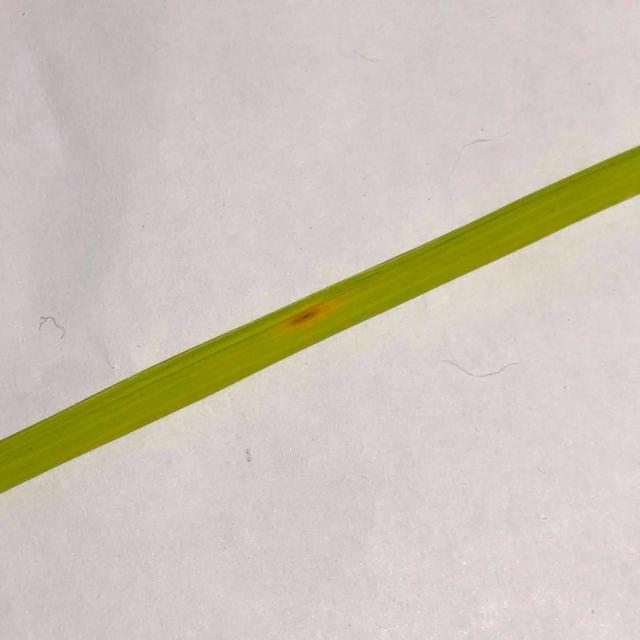Brown spot: (0, 125, 640, 526)
